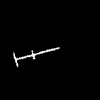double_crochet: (14, 48, 57, 66)
